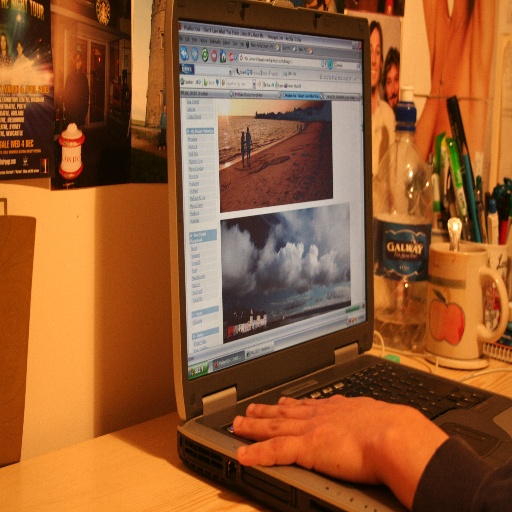hand: (233, 393, 469, 503)
